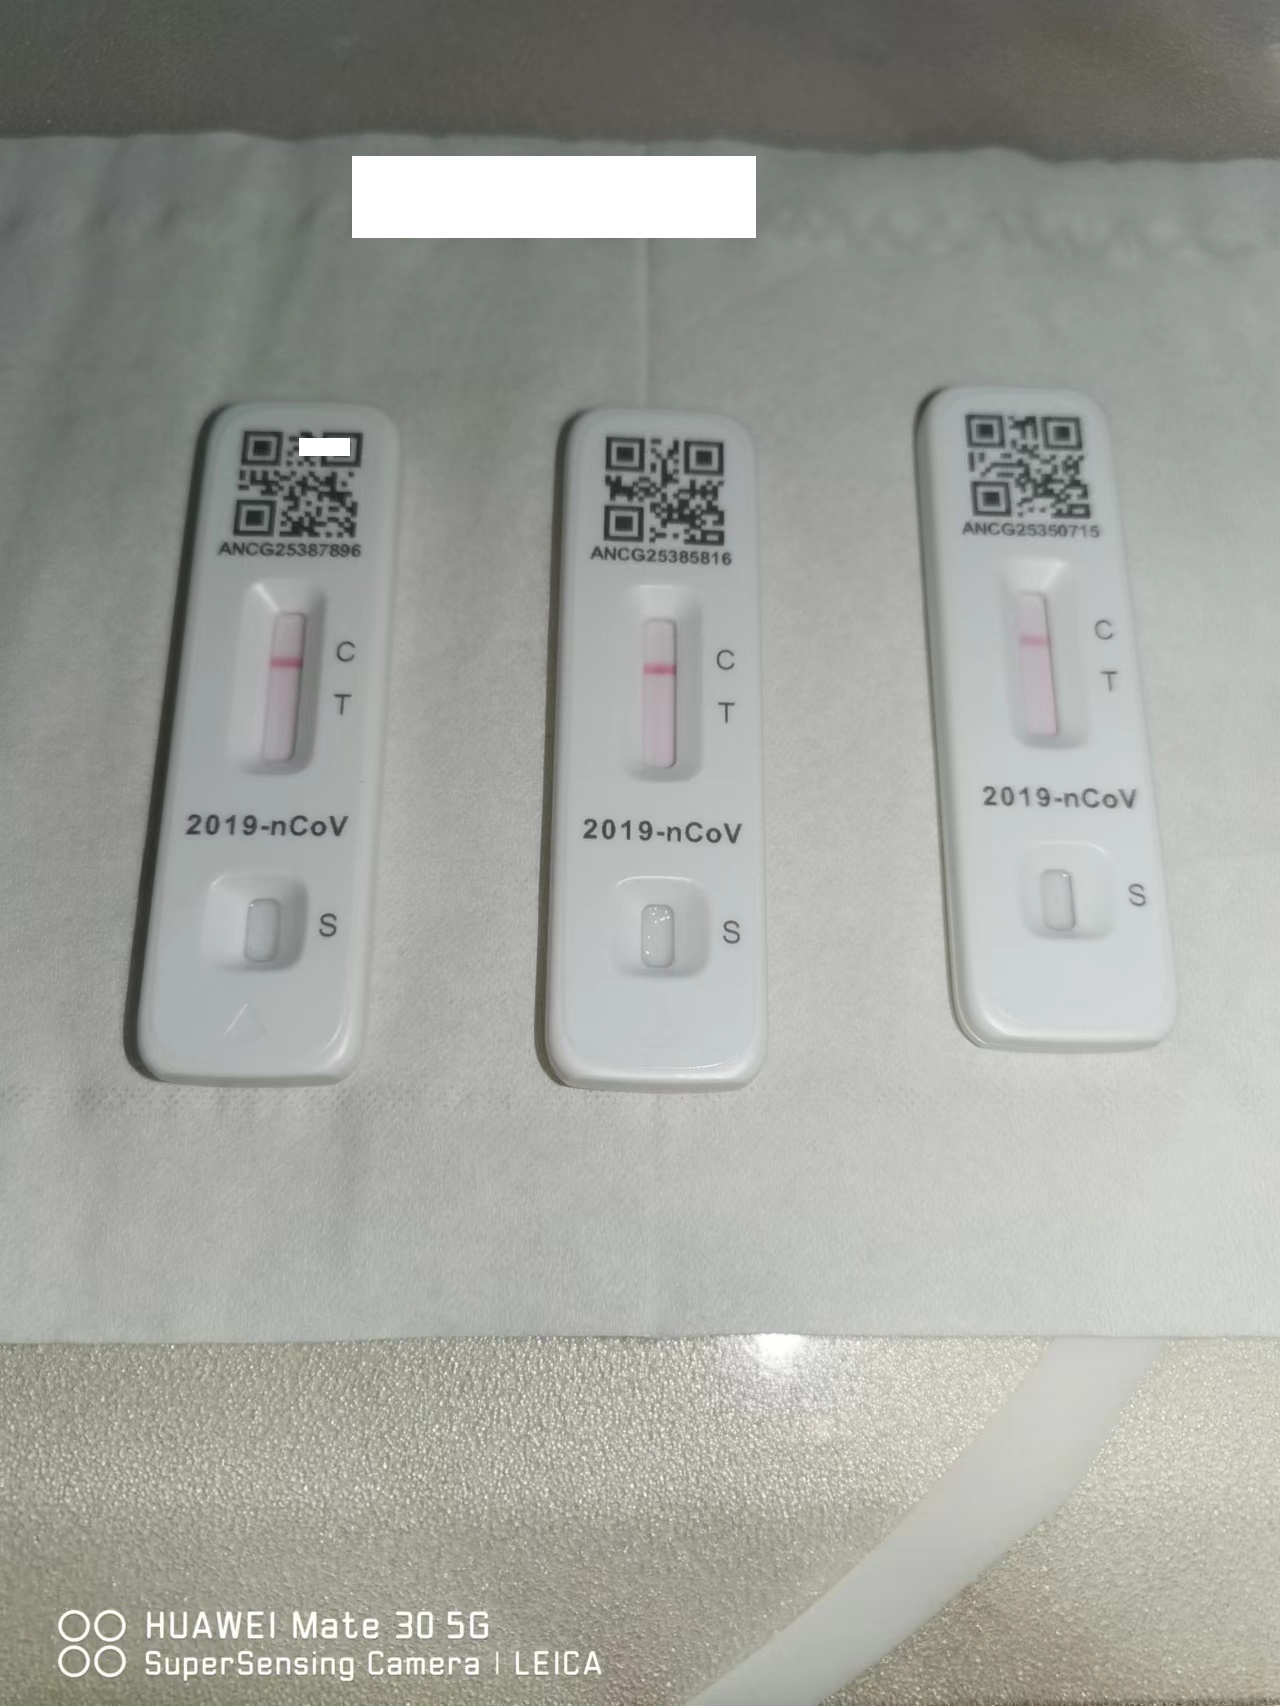negative: (230, 579, 325, 777), (1000, 562, 1080, 752), (627, 587, 701, 784)
